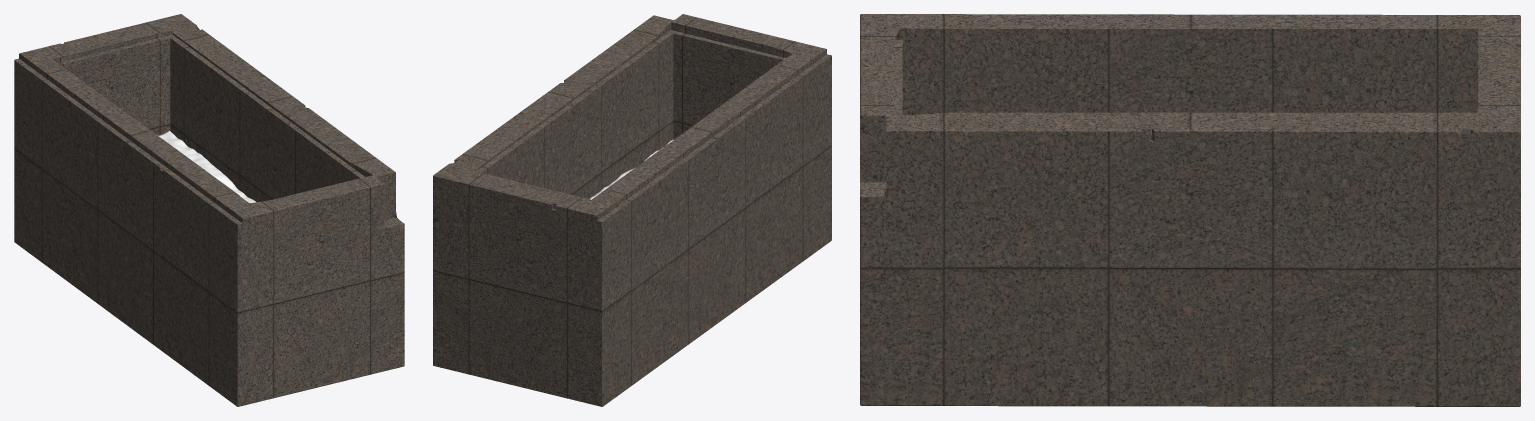
The model's file is chamber_nodraco.glb.
3 views of the same model, side by side, from view 1: azimuth 30°, elevation 25°; view 2: azimuth 150°, elevation 25°; view 3: azimuth 270°, elevation 25° (orthographic). The views are drawn at different scales.
Parts seen in each view (by area): view 1: 石棺_外体, SAND_Surface; view 2: 石棺_外体; view 3: 石棺_外体.
Part boxes in pixels (x1,y1,x2,y2): 石棺_外体: (14, 14, 404, 406); SAND_Surface: (158, 130, 256, 202); 石棺_外体: (433, 14, 831, 406); 石棺_外体: (860, 14, 1520, 406).
Bounding box in the file's own units: 0.9865 × 1.05 × 2.28.
3 materials, 2 textured.
